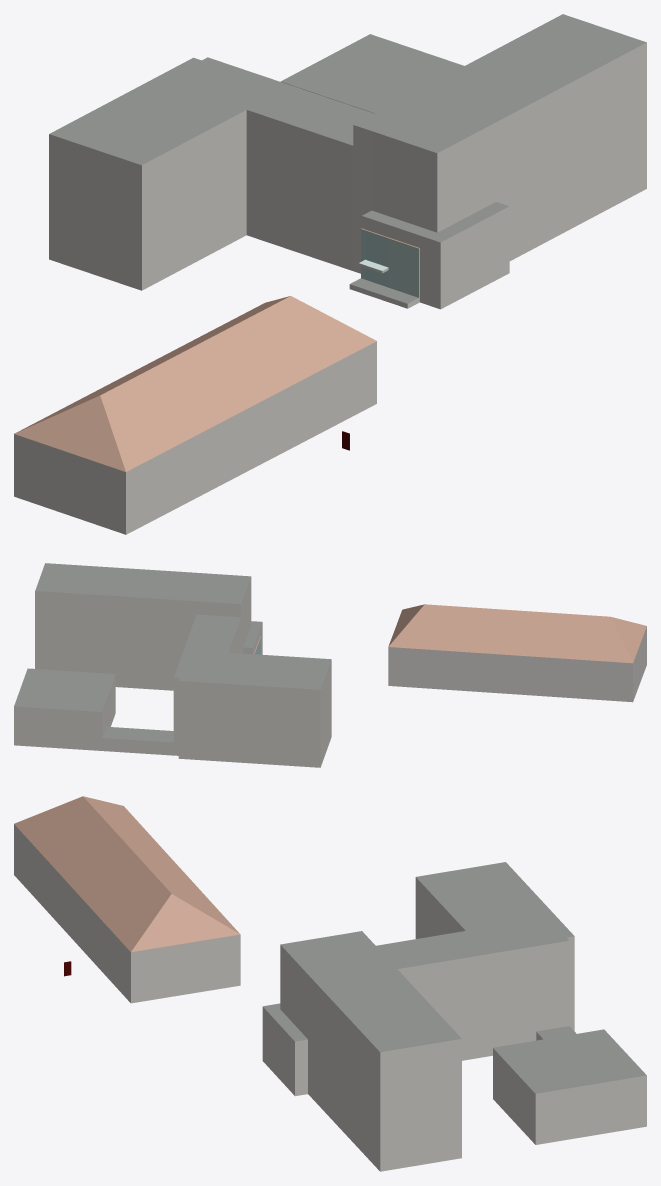
File: gridID_93.dae
The picture shows the model from 3 angles, top to bottom: view 1: azimuth 30°, elevation 25°; view 2: azimuth 150°, elevation 25°; view 3: azimuth 270°, elevation 25°; orthographic projection. The views are drawn at different scales.
Visible parts, largest first — view 1: model_gridID_93_w383026103, model_gridID_93_w114518357_001; view 2: model_gridID_93_w383026103, model_gridID_93_w114518357_001; view 3: model_gridID_93_w383026103, model_gridID_93_w114518357_001.
Part boxes in pixels (x1=…): model_gridID_93_w383026103: x1=49, y1=14, x2=646, y2=309; model_gridID_93_w114518357_001: x1=14, y1=296, x2=376, y2=534; model_gridID_93_w383026103: x1=14, y1=563, x2=331, y2=767; model_gridID_93_w114518357_001: x1=388, y1=604, x2=646, y2=702; model_gridID_93_w383026103: x1=262, y1=862, x2=646, y2=1171; model_gridID_93_w114518357_001: x1=14, y1=796, x2=240, y2=1003.
Bounding box in the file's own units: 98.86 × 84.05 × 17.5.
